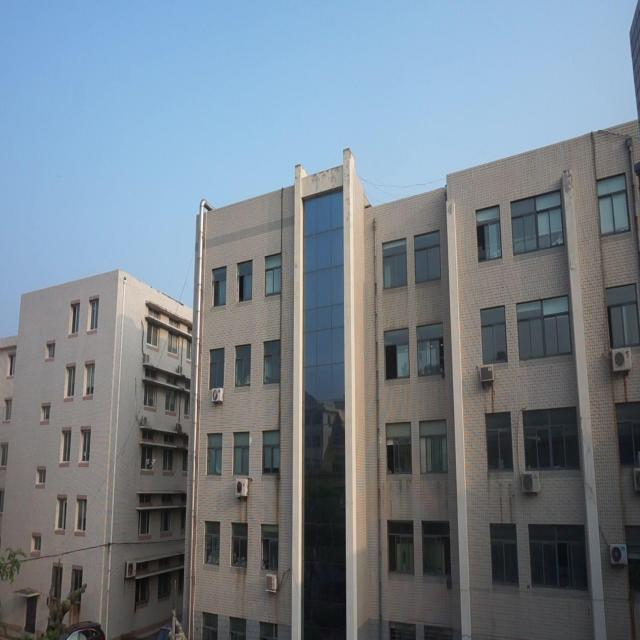UAV: (146, 459, 156, 465)
